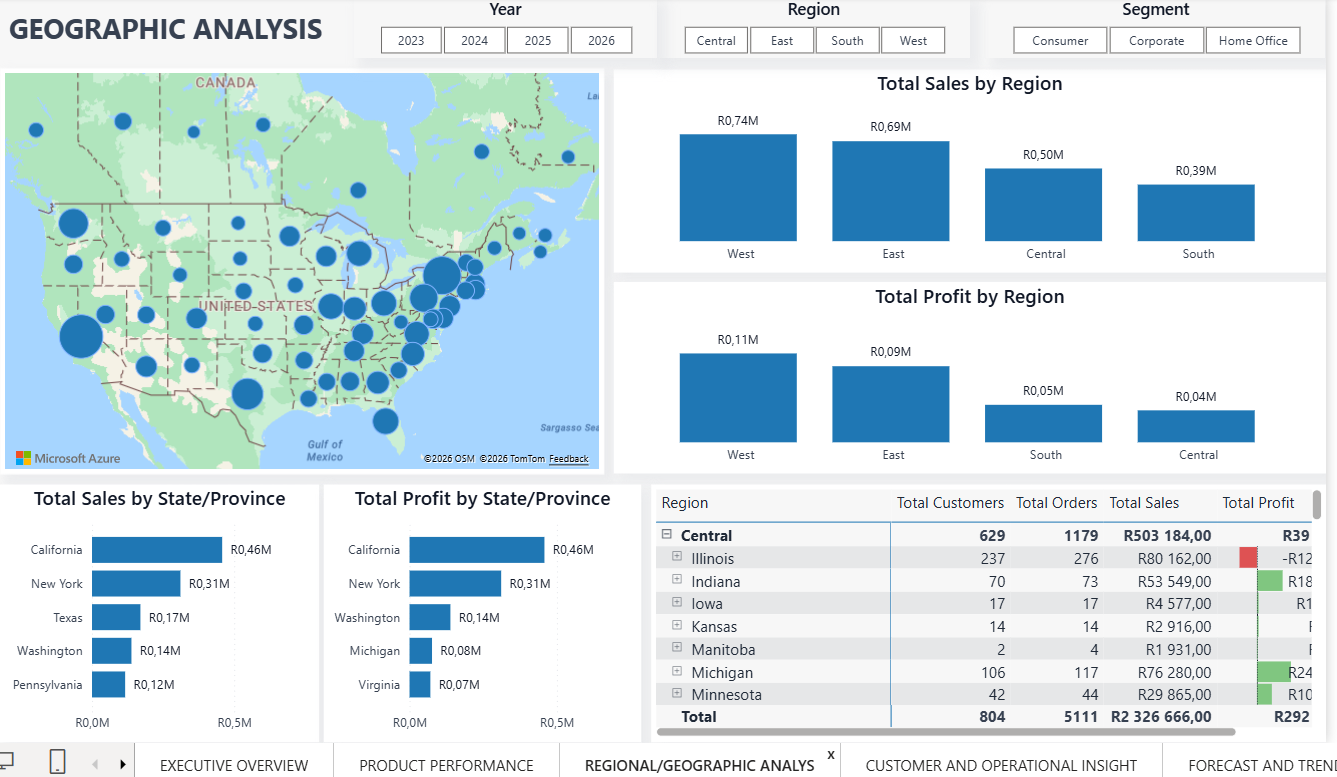

The page's visual inventory and layout, read from the dashboard file:
{"tool":"powerbi","page":{"name":"REGIONAL/GEOGRAPHIC ANALYS","canvas":[1280,720],"ordinal":2},"visuals":[{"type":"azureMap","fields":{"Category":["Orders.State/Province","Orders.City"],"Size":["Orders.Total Sales"]},"box":[0,69.1,582.8,392.2],"z":0},{"type":"clusteredColumnChart","fields":{"Category":["Orders.Region"],"Y":["Orders.Total Sales"]},"box":[591.8,69.9,687.7,195.9],"z":1000},{"type":"clusteredColumnChart","fields":{"Category":["Orders.Region"],"Y":["Orders.Total Profit"]},"box":[591.8,275.3,687.7,184.9],"z":2000},{"type":"clusteredBarChart","fields":{"Category":["Orders.State/Province"],"Y":["Orders.Total Sales"]},"box":[0,471,308,248.6],"z":3000},{"type":"clusteredBarChart","title":"Total Profit by State/Province","fields":{"Category":["Orders.State/Province"],"Y":["Orders.Total Sales"]},"box":[312.1,471,306.6,248.6],"z":4000},{"type":"pivotTable","fields":{"Rows":["Orders.Region","Orders.State/Province","Orders.City"],"Values":["Orders.Total Customers","Orders.Total Orders","Orders.Total Sales","Orders.Total Profit"]},"box":[628.4,471,651.9,248.6],"z":5000},{"type":"slicer","title":"Year","fields":{"Values":["DateTable.Year"]},"box":[341.1,0,292.8,59.4],"z":6000},{"type":"slicer","title":"Region","fields":{"Values":["Orders.Region"]},"box":[634.3,0,301.6,59.1],"z":7000},{"type":"slicer","title":"Segment","fields":{"Values":["Orders.Segment"]},"box":[952.1,0,327.4,58.9],"z":8000},{"type":"textbox","box":[4.1,6.8,319.2,45.2],"z":9000}]}

Visuals, with their boxes on the page's 1280x720 design canvas (x1, y1, x2, y2). These are canvas units, not pixel positions in the 1337x777 screenshot, which may show the page scaled, cropped or inside an application window:
azureMap - Orders.State/Province x Orders.City: 0 69 583 461
clusteredColumnChart - Orders.Region x Orders.Total Sales: 592 70 1280 266
clusteredColumnChart - Orders.Region x Orders.Total Profit: 592 275 1280 460
clusteredBarChart - Orders.State/Province x Orders.Total Sales: 0 471 308 720
"Total Profit by State/Province" clusteredBarChart: 312 471 619 720
pivotTable - Orders.Region x Orders.State/Province: 628 471 1280 720
"Year" slicer: 341 0 634 59
"Region" slicer: 634 0 936 59
"Segment" slicer: 952 0 1280 59
textbox: 4 7 323 52
